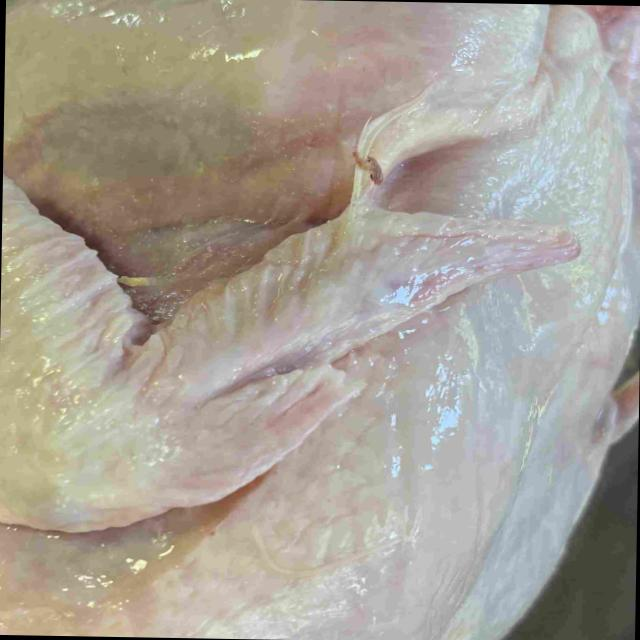leg: (3, 0, 544, 225), (585, 5, 640, 276)
wing: (0, 179, 587, 533)
